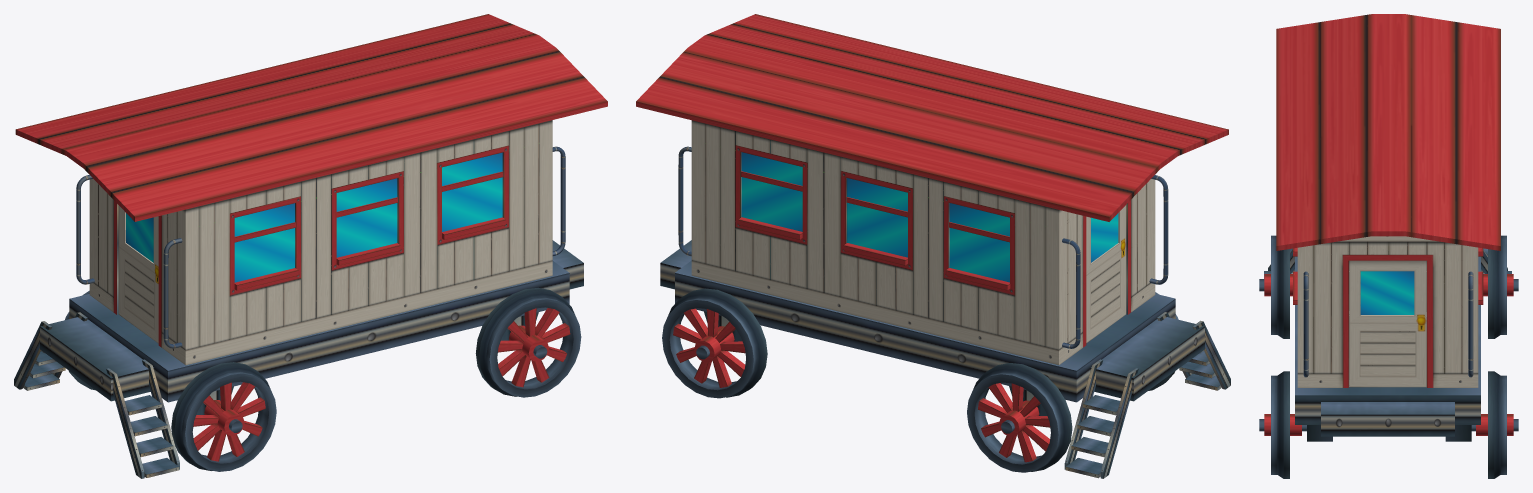
The model's file is Wagon_02.FBX.
The picture shows the model from 3 angles, left to right: view 1: azimuth 30°, elevation 25°; view 2: azimuth 150°, elevation 25°; view 3: azimuth 270°, elevation 25°; orthographic projection. The views are drawn at different scales.
Visible parts, largest first — view 1: Body, Roof, Glass, Wheel_A, Wheel_B, Door_A; view 2: Body, Roof, Glass, Wheel_A, Wheel_B, Door_A; view 3: Roof, Body, Door_B, Wheel_B, Wheel_A.
Part boxes in pixels (x1,y1,x2,y2): Body: (14,120,583,478); Roof: (15,14,607,221); Glass: (234,152,502,282); Wheel_A: (65,290,276,471); Wheel_B: (475,287,581,397); Door_A: (118,205,158,343); Body: (660,120,1230,478); Roof: (636,14,1228,221); Glass: (741,152,1009,282); Wheel_A: (967,292,1178,472); Wheel_B: (662,288,767,398); Door_A: (1086,205,1126,343); Roof: (1276,14,1500,250); Body: (1264,236,1511,441); Door_B: (1348,260,1426,387); Wheel_B: (1259,371,1518,478); Wheel_A: (1259,235,1518,338).
Bounding box in the file's own units: 3.65 × 2.17 × 1.84.
